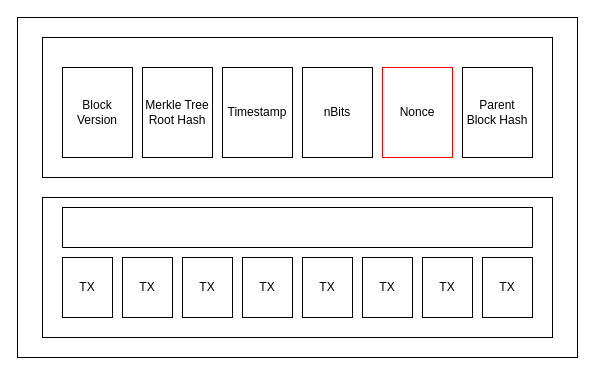
Image size: 595x375. Some labels were removed from this diagram. The shapes that lost their labels are listed below. From the top down, each one's box as (x1, y1, x2, y2) in pixels, then its label:
(42, 36, 552, 178): Block-Header
(62, 206, 532, 248): Transaction Counter
